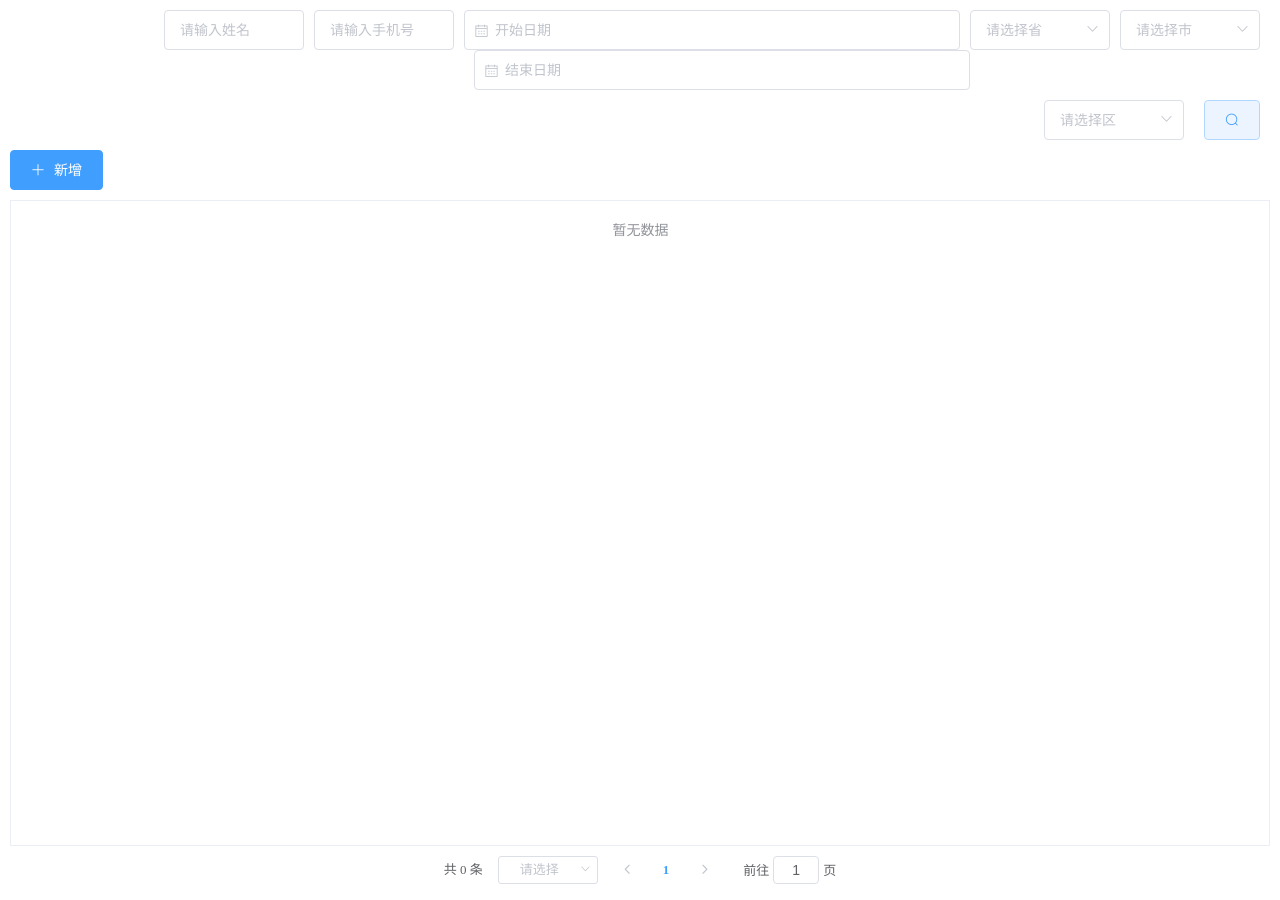
returns all rows without any search input
The width and height of the screenshot is (1280, 900).
Step 1. Click the button titled "搜索" → coordinates (1232, 120), box x1=1204 y1=100 x2=1260 y2=140
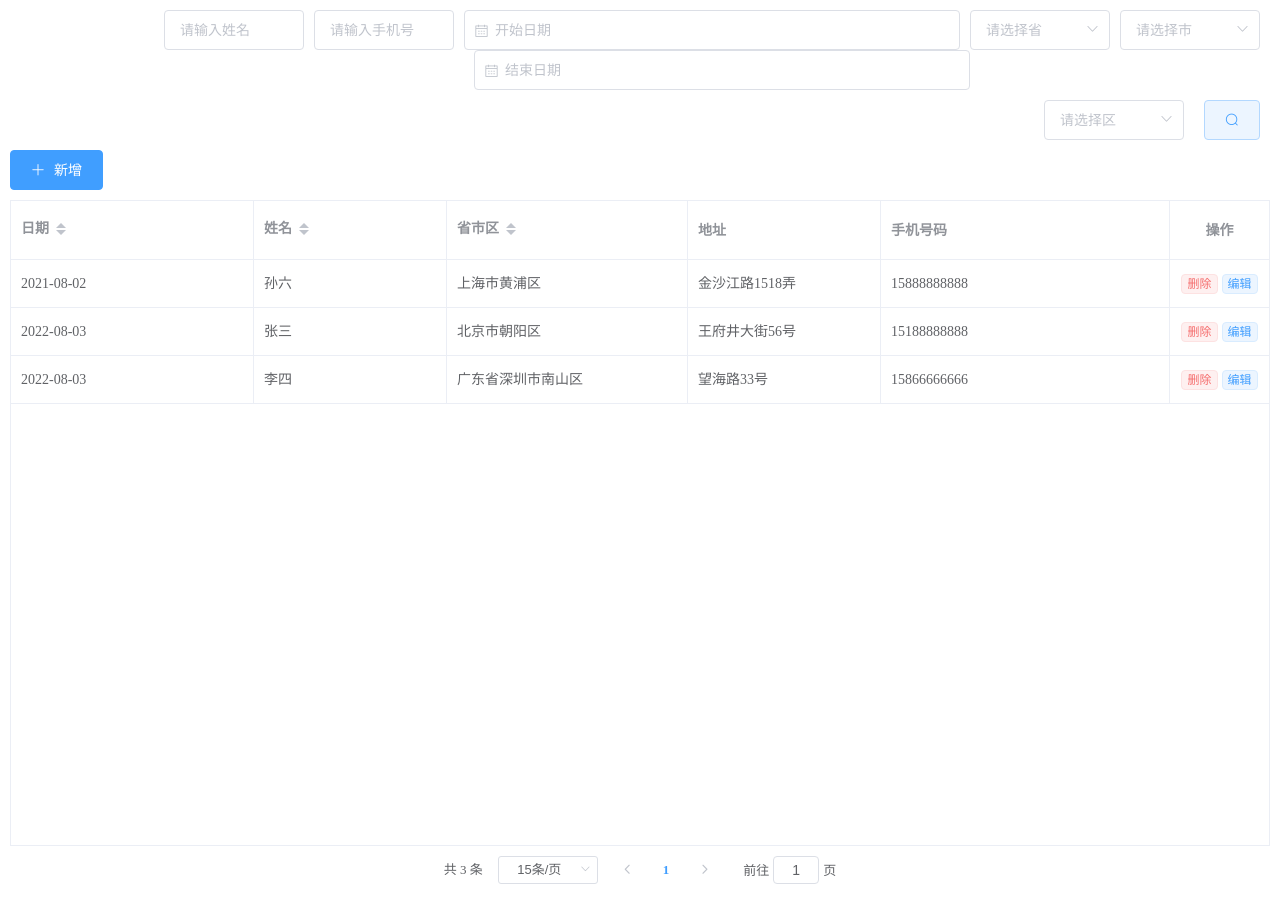
Check: the number of rows is 4, box x1=11 y1=201 x2=1270 y2=260; x1=11 y1=260 x2=1270 y2=308; x1=11 y1=308 x2=1270 y2=356; x1=11 y1=356 x2=1270 y2=404
